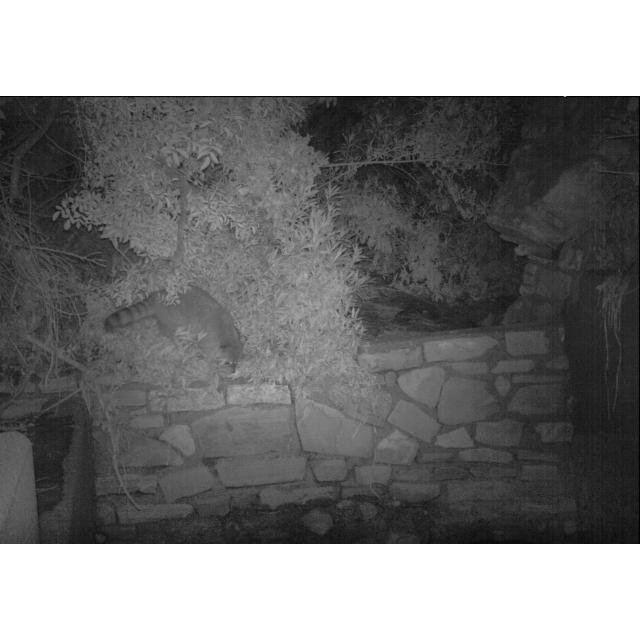animals: (100, 280, 248, 378)
